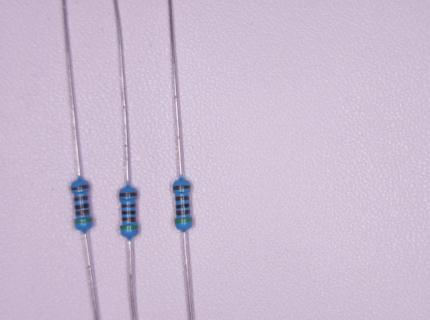Black band: (75, 204, 90, 210), (176, 203, 190, 209), (122, 210, 136, 215)
Brown band: (71, 185, 90, 191), (119, 192, 137, 197), (173, 185, 190, 190), (175, 195, 189, 201), (74, 196, 89, 201), (176, 210, 190, 215), (122, 203, 136, 208), (122, 217, 136, 222), (76, 210, 90, 215)
Green band: (75, 218, 93, 223), (175, 218, 192, 223), (120, 226, 138, 230)
